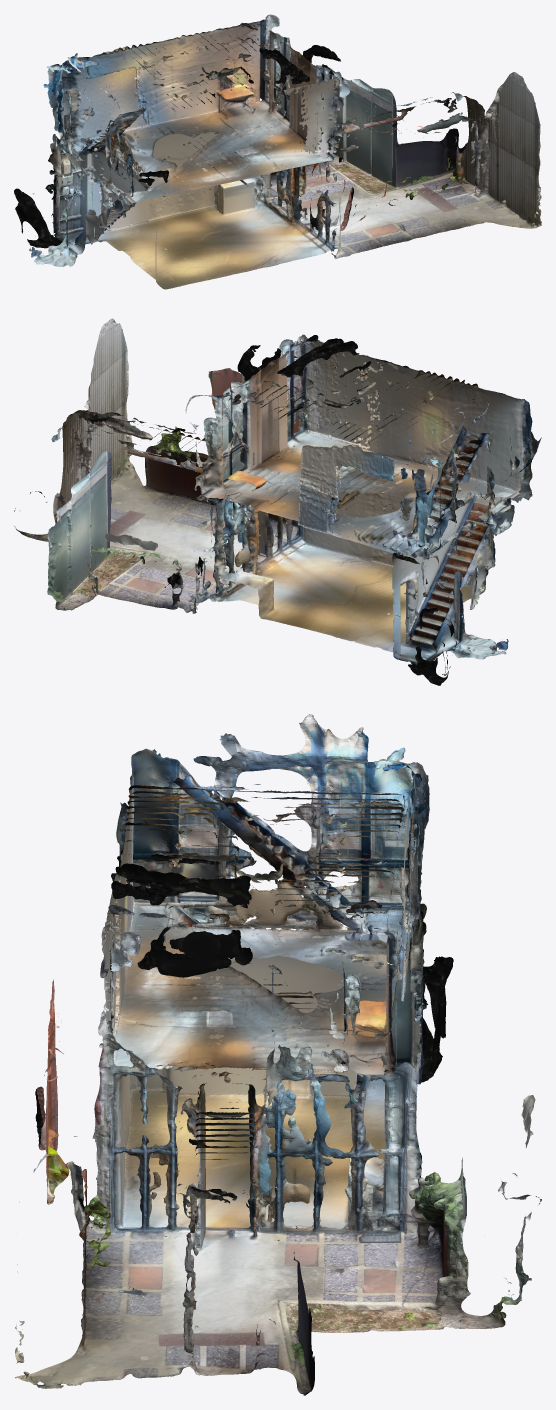
3 renders of one model, top to bottom at view 1: azimuth 30°, elevation 25°; view 2: azimuth 150°, elevation 25°; view 3: azimuth 270°, elevation 25°, orthographic. The views are drawn at different scales.
Parts seen in each view (by area): view 1: Story 0, Story 1; view 2: Story 0, Story 1; view 3: Story 0, Story 1.
Part boxes in pixels (x1,y1,x2,y2): Story 0: (14, 65, 541, 289); Story 1: (43, 14, 540, 209); Story 0: (14, 364, 514, 685); Story 1: (88, 318, 541, 564); Story 0: (15, 905, 541, 1395); Story 1: (19, 714, 429, 1202).
Size of the model in its own units: 16.49 by 7.55 by 9.9.
Materials: 4 (4 with a texture image).
